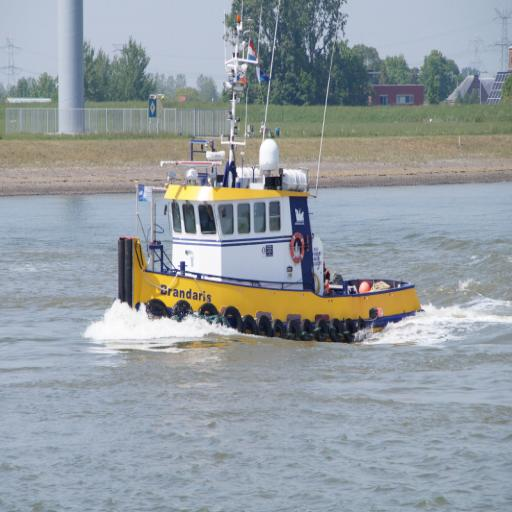tugboat: (117, 55, 430, 350)
